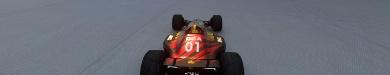Car: (139, 13, 244, 74)
grass: (0, 0, 389, 74)
